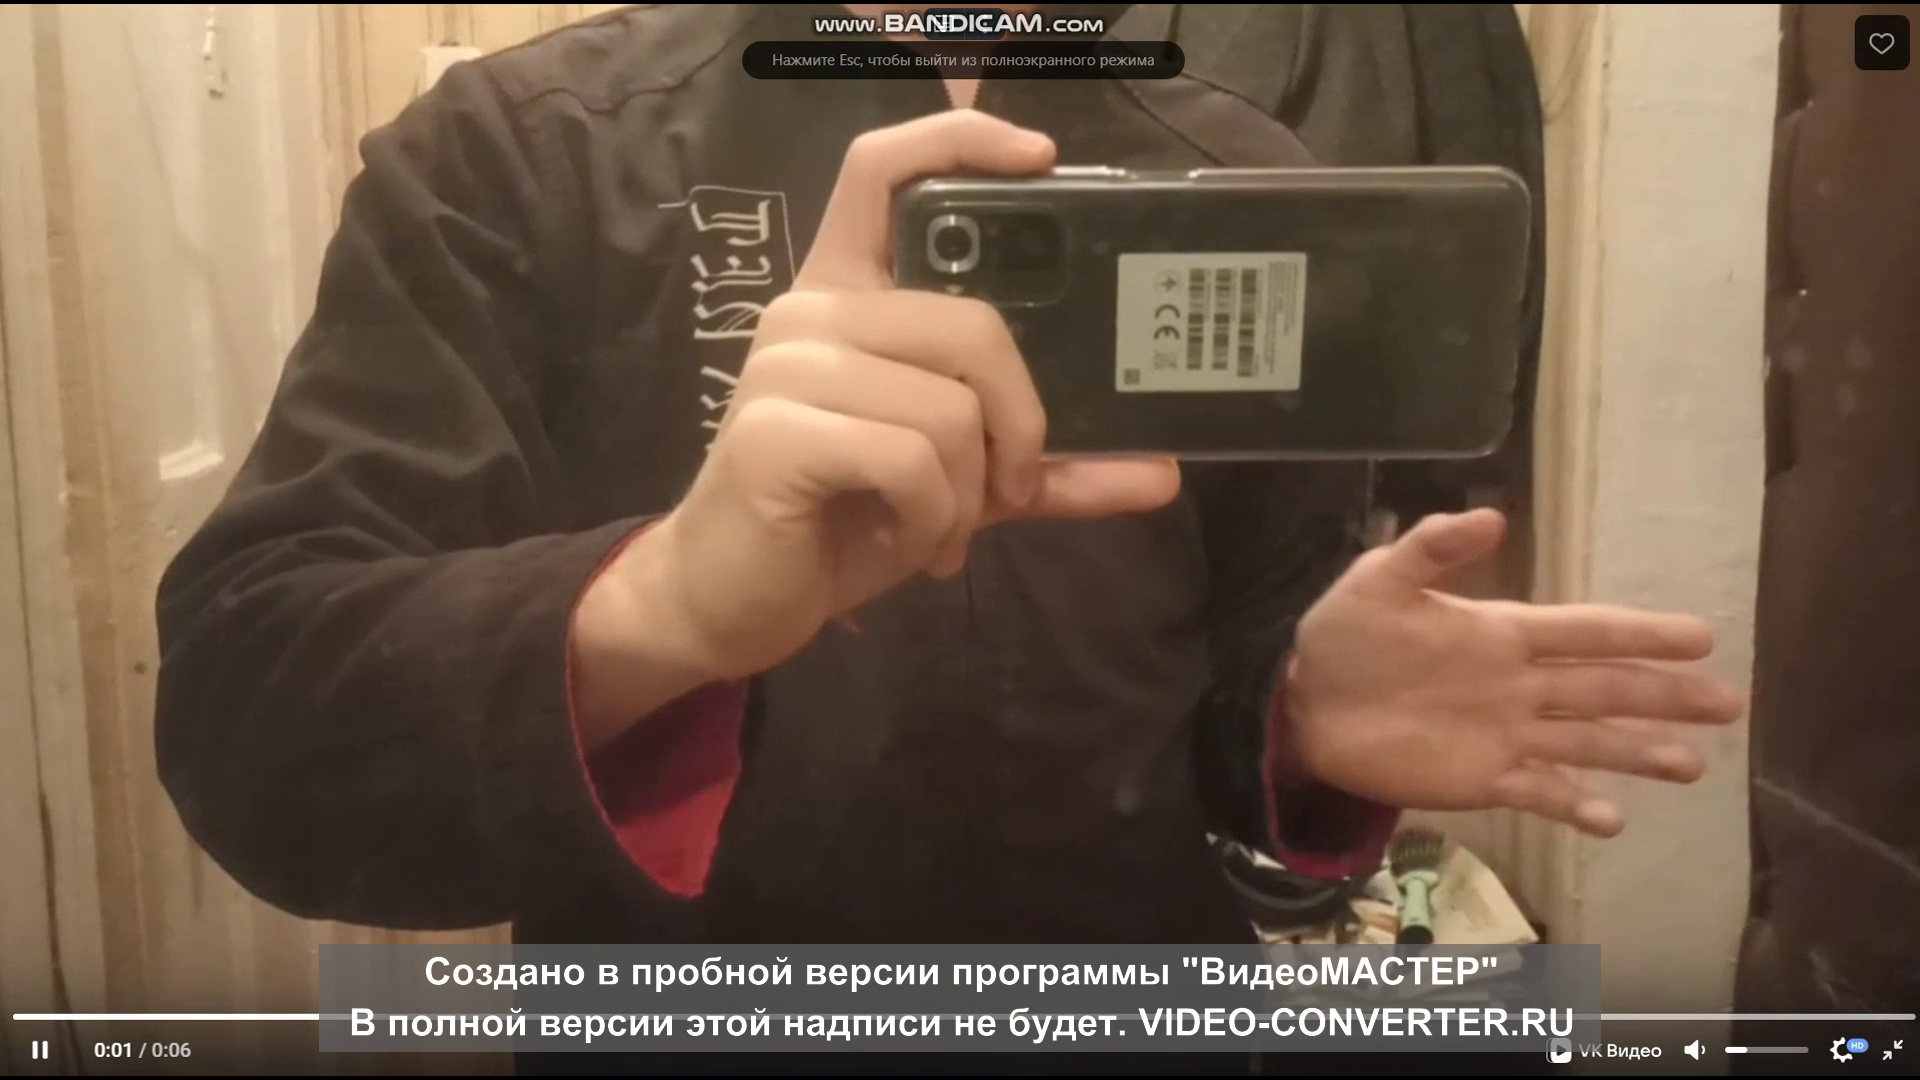Ладонь: (1296, 508, 1743, 839)
